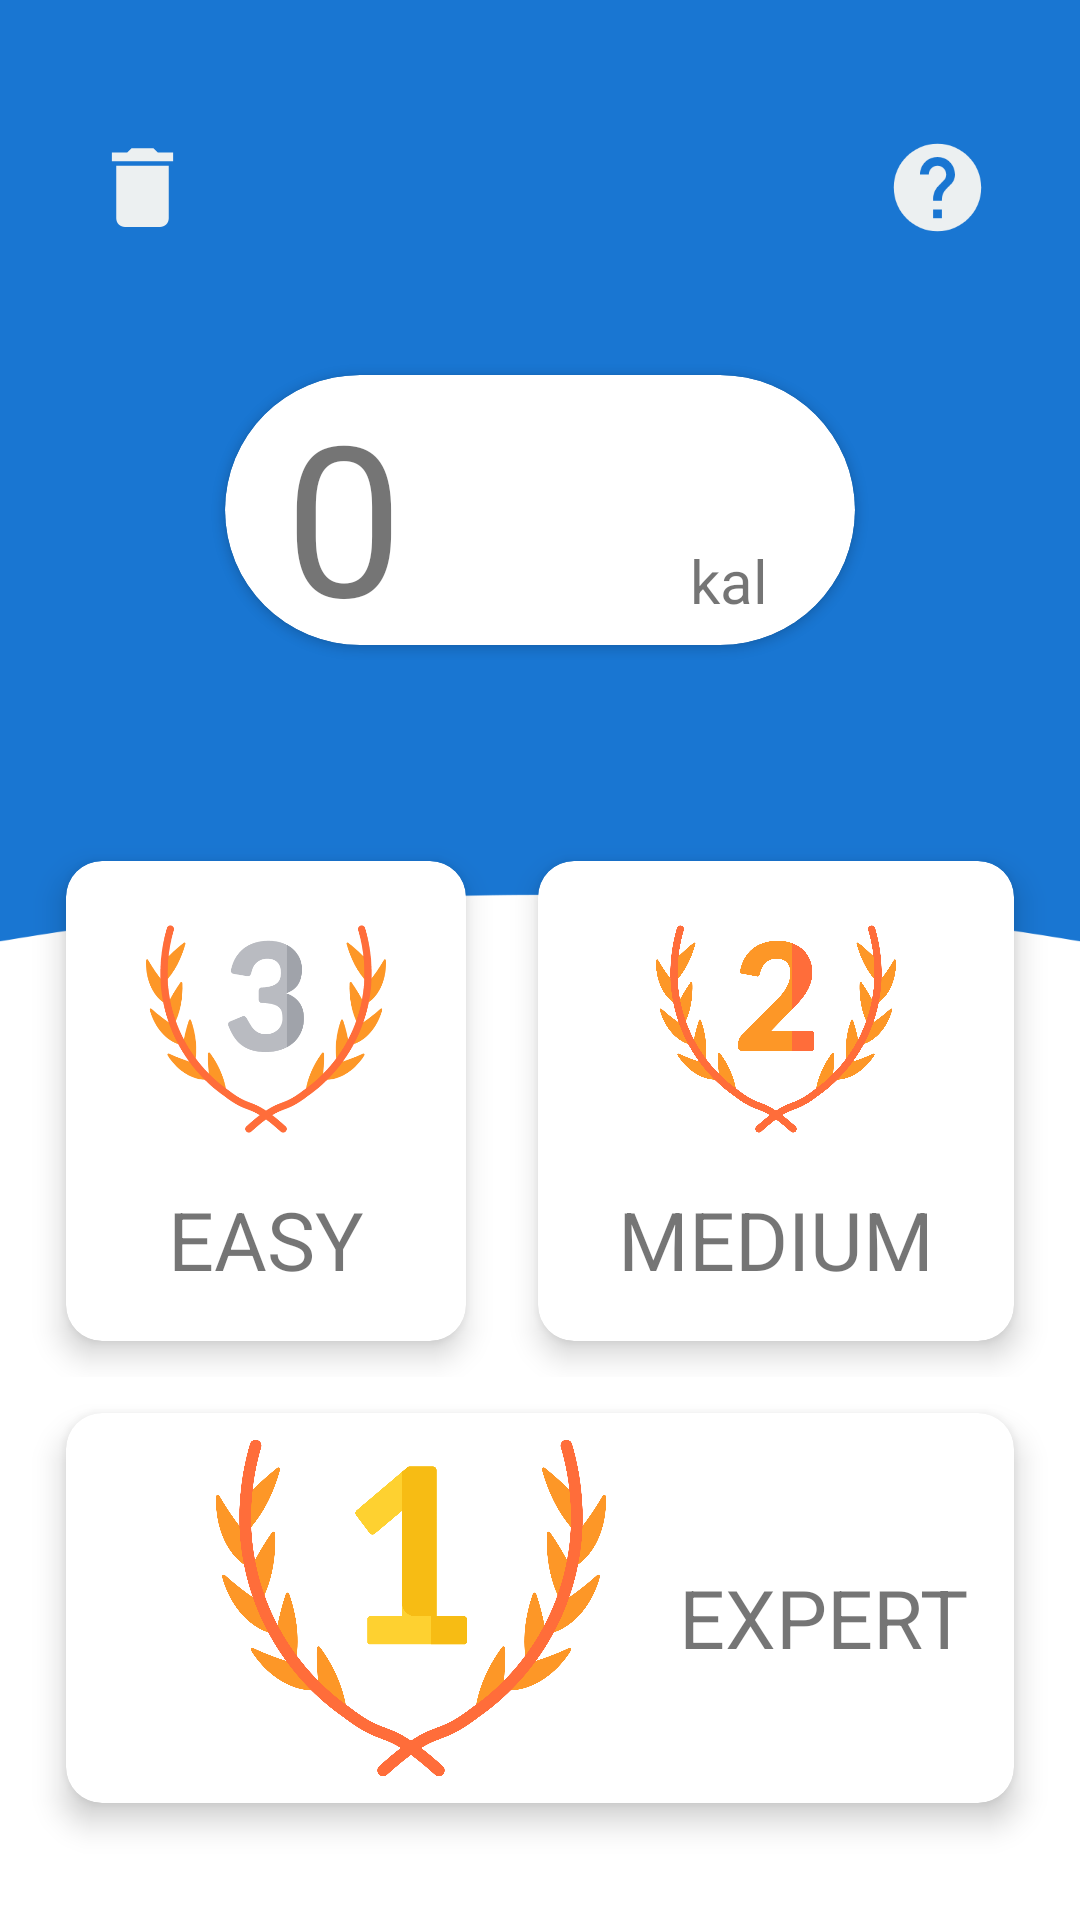

Icon bounding boxes for this 1080x1920 phone screenshot, format (x1, y1, x2, y2):
delete: (111, 148, 174, 227)
help: (893, 143, 982, 232)
